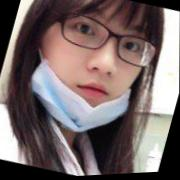WRONG: (21, 1, 158, 140)
